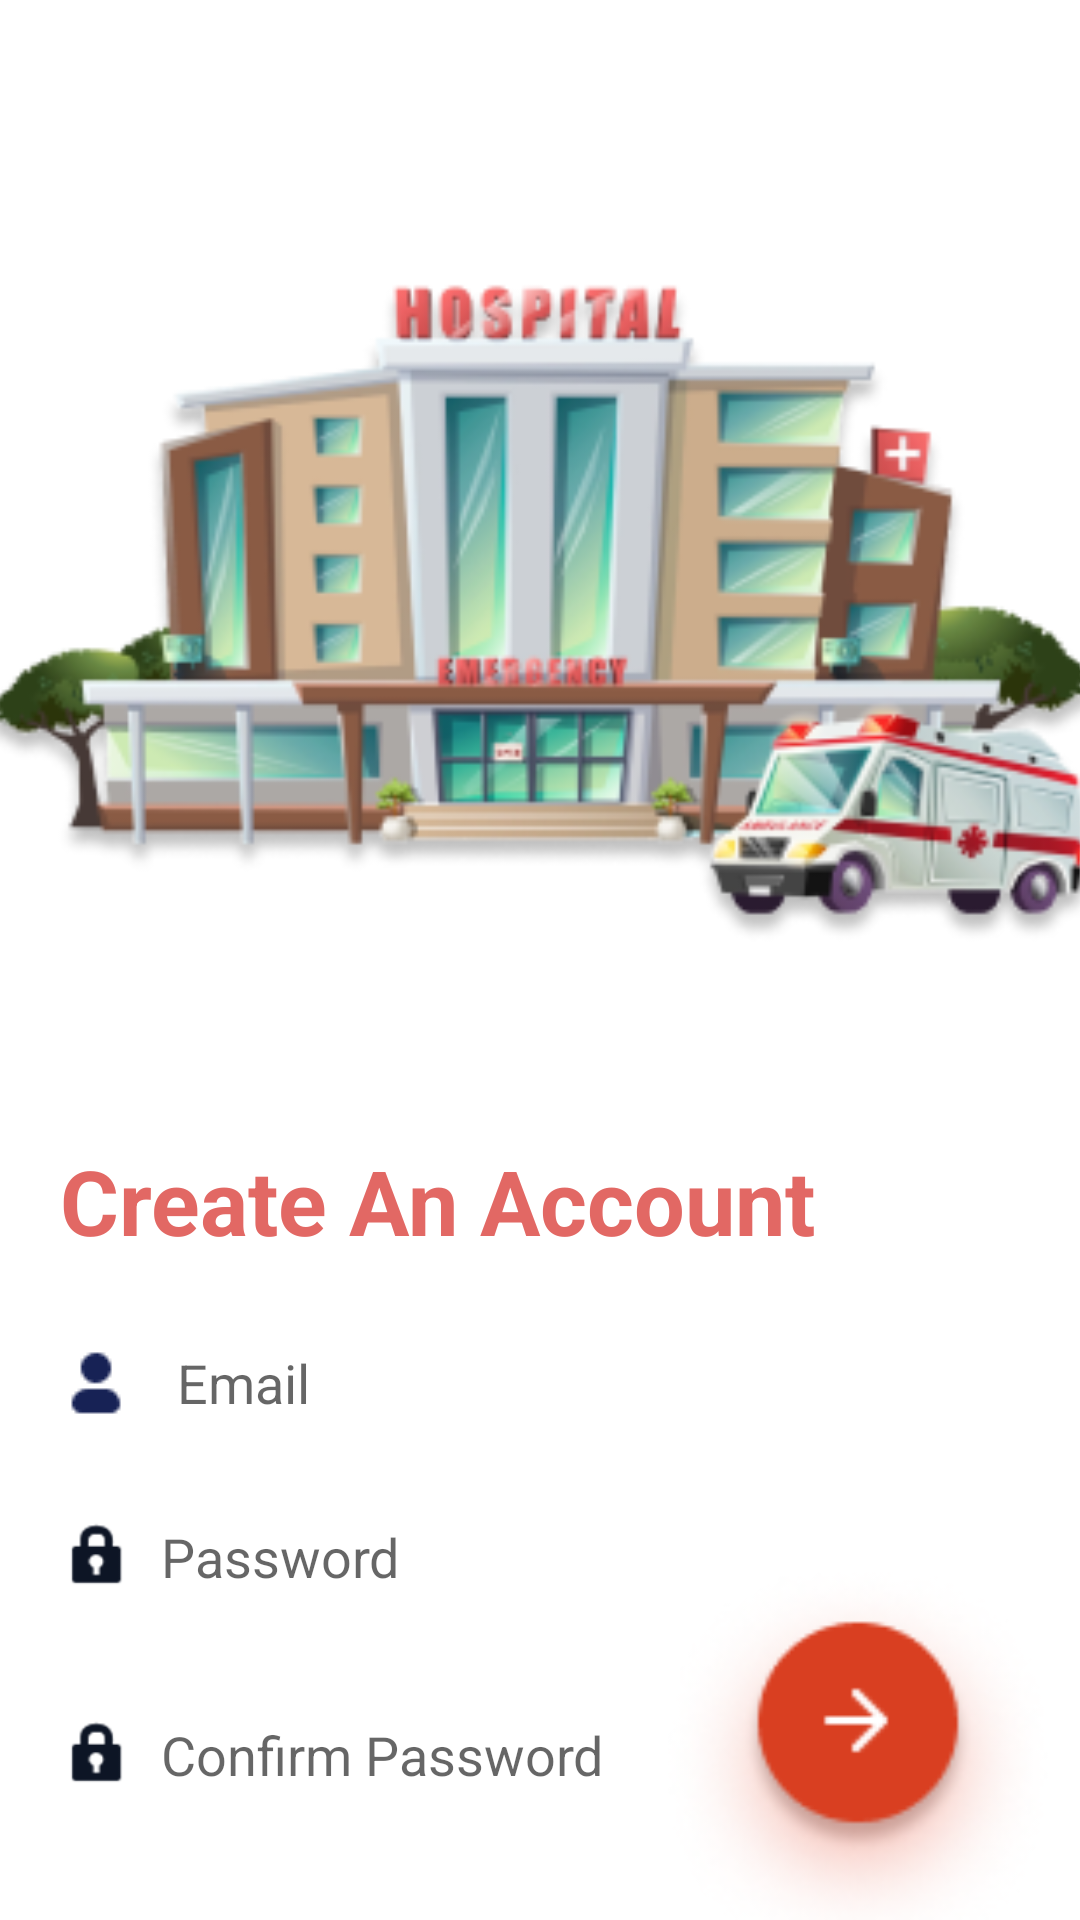

Named icons in this screenshot (1080 x 1920) and their centers, [x,y]:
signup: [858,1750]
